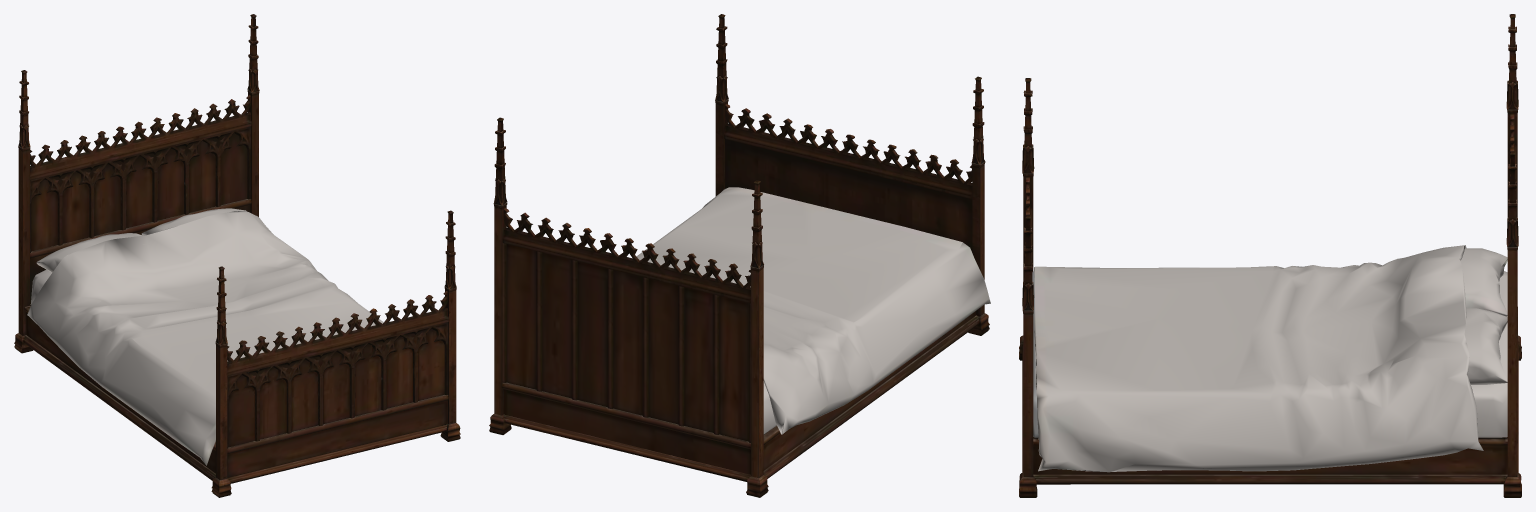
File: GothicBed_01.glb
The picture shows the model from 3 angles, left to right: view 1: azimuth 30°, elevation 25°; view 2: azimuth 150°, elevation 25°; view 3: azimuth 270°, elevation 25°; orthographic projection. The views are drawn at different scales.
Parts seen in each view (by area): view 1: GothicBed_01; view 2: GothicBed_01; view 3: GothicBed_01.
Boxes of the visible parts, box(x1,y1,x2,y2) form: GothicBed_01: box(14, 14, 460, 497); GothicBed_01: box(489, 14, 990, 497); GothicBed_01: box(1019, 14, 1521, 497).
Size of the model in its own units: 1.49 by 1.53 by 2.04.
Materials: 1 (1 with a texture image).
